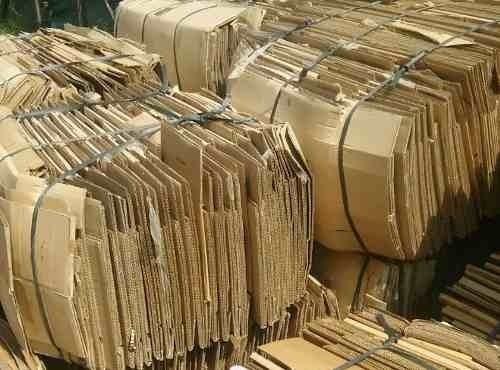paper: (241, 32, 439, 260), (317, 2, 500, 219), (8, 150, 184, 370), (162, 114, 272, 355), (13, 83, 238, 173), (239, 114, 326, 333)
